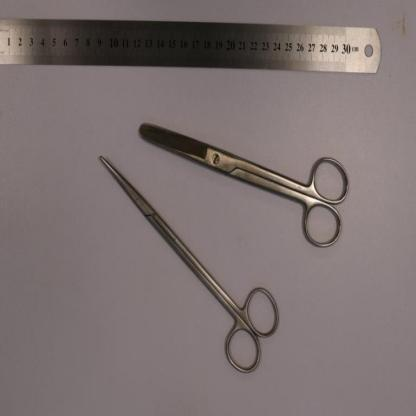7 Metzenbaum Scissors: (100, 154, 280, 377)
Dressing Scissors: (139, 121, 352, 250)
